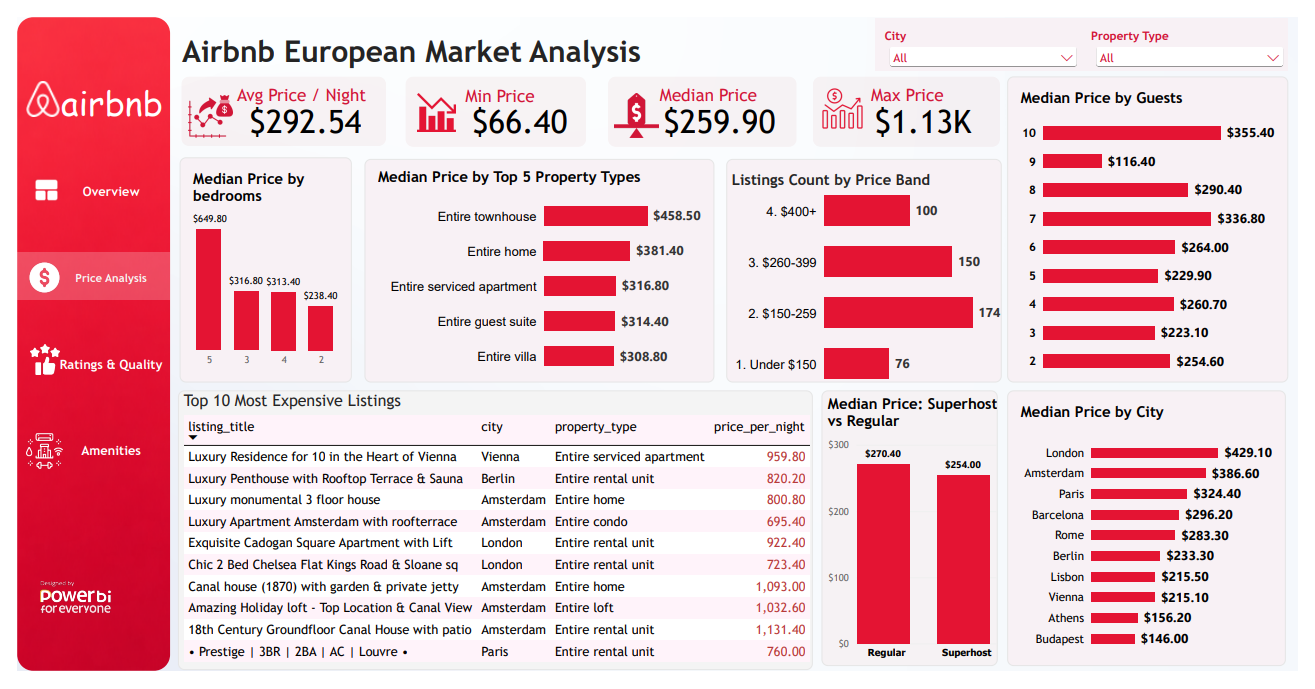

The dashboard page shown, as its layout file describes it:
{"tool":"powerbi","page":{"name":"Price Analysis","canvas":[1600,816],"ordinal":1},"visuals":[{"type":"image","box":[0,0,191.1,816],"z":0},{"type":"textbox","title":"Airbnb European Market Analysis","box":[206.5,20.6,633.1,44.7],"z":1000},{"type":"image","box":[10,78.6,43.5,46.9],"z":2000},{"type":"image","box":[29.1,681.7,87.4,82.1],"z":3000},{"type":"textbox","title":"airbnb","box":[55.1,75.6,130.7,66.1],"z":4000},{"type":"shape","box":[485.2,74,225.4,87.7],"z":5000},{"type":"cardVisual","fields":{"Data":["_Measures.Min Price"]},"box":[552.3,92.9,179,75.3],"z":6000},{"type":"textbox","title":"Min Price","box":[559.9,86.2,117.1,26.8],"z":7000},{"type":"columnChart","title":"Median Price: Superhost vs Regular","fields":{"Category":["GOLD fact_listings.Host Type"],"Y":["_Measures.Median Price"]},"box":[1004.7,466.2,220.2,344.1],"z":8000},{"type":"shape","box":[994.4,74,234,87.7],"z":9000},{"type":"shape","box":[18.9,197.9,33.9,33.5],"z":9000,"group":"g1"},{"type":"image","box":[22.8,200.5,26.8,28.4],"z":9500,"group":"g1"},{"type":"cardVisual","fields":{"Data":["_Measures.Max Price"]},"box":[1054.6,91.2,183.1,77.1],"z":10000},{"type":"textbox","title":"Max Price","box":[1066.7,84.3,132.5,29.2],"z":11000},{"type":"image","box":[1001.3,89.5,58.5,49.9],"z":12000},{"type":"clusteredBarChart","title":"Median Price by City","fields":{"Category":["GOLD fact_listings.city"],"Y":["_Measures.Median Price"]},"box":[1237,466.2,347.5,344.1],"z":13000},{"type":"clusteredBarChart","fields":{"Category":["GOLD fact_listings.Price Band"],"Y":["_Measures.Listings Count"]},"box":[886,177.2,344.1,278.7],"z":14000},{"type":"shape","box":[204.7,73.7,256.3,87.7],"z":15000},{"type":"cardVisual","fields":{"Data":["_Measures.Avg Price"]},"box":[273.5,99.8,203,58.5],"z":16000},{"type":"textbox","title":"Avg Price / Night","box":[275.3,84,203,29.2],"z":17000},{"type":"image","box":[208.2,96.3,67.1,55.1],"z":18000},{"type":"shape","box":[738.1,74,235.7,87.7],"z":19000},{"type":"cardVisual","fields":{"Data":["_Measures.Median Price"]},"box":[791.4,103.2,212.5,55.2],"z":20000},{"type":"textbox","title":"Median Price","box":[803.4,84.3,204.7,27.5],"z":21000},{"type":"image","box":[731.2,94.6,84.3,55.1],"z":22000},{"type":"clusteredBarChart","title":"Median Price by Top 5 Property Types","fields":{"Category":["GOLD fact_listings.property_type"],"Y":["_Measures.Median Price"]},"box":[433.5,177.2,437,278.7],"z":23000},{"type":"tableEx","title":"Top 10 Most Expensive Listings","fields":{"Values":["GOLD fact_listings.listing_title","GOLD fact_listings.city","GOLD fact_listings.property_type","GOLD fact_listings.price_per_night"]},"box":[201.3,466.2,793.1,349.2],"z":24000},{"type":"columnChart","title":"Median Price by bedrooms","fields":{"Category":["GOLD fact_listings.bedrooms"],"Y":["_Measures.Median Price"]},"box":[203,175.5,215.1,280.4],"z":25000},{"type":"image","box":[495.5,94.6,56.8,48.2],"z":26000},{"type":"slicer","title":"Property Type","fields":{"Values":["GOLD fact_listings.property_type"]},"box":[1329.9,1.7,258.1,65.4],"z":27000},{"type":"slicer","title":"City","fields":{"Values":["GOLD fact_listings.property_type"]},"box":[1071.8,1.7,258.1,65.4],"z":28000},{"type":"barChart","title":"Median Price by Guests","fields":{"Category":["GOLD fact_listings.guests"],"Y":["_Measures.Median Price"]},"box":[1237,74,351,381.9],"z":29000},{"type":"group","id":"g1","title":"Group 1","box":[18.9,197.9,35.7,34.4],"z":29001},{"type":"image","box":[14.9,408.9,38.7,37.2],"z":29002},{"type":"pageNavigator","box":[26.8,168,181.4,425.3],"z":29003},{"type":"shape","box":[0,294.4,190.5,59],"z":29004},{"type":"image","box":[11.4,512.4,45.7,59],"z":29005},{"type":"image","box":[13.4,304.8,41.6,40.1],"z":29006}]}

Visuals, with their boxes in screenshot pixels (x1, y1, x2, y2), scaled from the page's 1600x816 canvas onto the 1315x689 screenshot:
image: bbox=(0, 0, 157, 688)
"Airbnb European Market Analysis" textbox: bbox=(170, 17, 690, 55)
image: bbox=(8, 66, 44, 106)
image: bbox=(24, 576, 96, 645)
"airbnb" textbox: bbox=(45, 64, 153, 120)
shape: bbox=(399, 62, 584, 137)
cardVisual - _Measures.Min Price: bbox=(454, 78, 601, 142)
"Min Price" textbox: bbox=(460, 73, 556, 95)
"Median Price: Superhost vs Regular" columnChart: bbox=(826, 394, 1007, 684)
shape: bbox=(817, 62, 1010, 137)
shape: bbox=(16, 167, 43, 195)
image: bbox=(19, 169, 41, 193)
cardVisual - _Measures.Max Price: bbox=(867, 77, 1017, 142)
"Max Price" textbox: bbox=(877, 71, 986, 96)
image: bbox=(823, 76, 871, 118)
"Median Price by City" clusteredBarChart: bbox=(1017, 394, 1302, 684)
clusteredBarChart - GOLD fact_listings.Price Band x _Measures.Listings Count: bbox=(728, 150, 1011, 385)
shape: bbox=(168, 62, 379, 136)
cardVisual - _Measures.Avg Price: bbox=(225, 84, 392, 134)
"Avg Price / Night" textbox: bbox=(226, 71, 393, 96)
image: bbox=(171, 81, 226, 128)
shape: bbox=(607, 62, 800, 137)
cardVisual - _Measures.Median Price: bbox=(650, 87, 825, 134)
"Median Price" textbox: bbox=(660, 71, 829, 94)
image: bbox=(601, 80, 670, 126)
"Median Price by Top 5 Property Types" clusteredBarChart: bbox=(356, 150, 715, 385)
"Top 10 Most Expensive Listings" tableEx: bbox=(165, 394, 817, 688)
"Median Price by bedrooms" columnChart: bbox=(167, 148, 344, 385)
image: bbox=(407, 80, 454, 121)
"Property Type" slicer: bbox=(1093, 1, 1305, 57)
"City" slicer: bbox=(881, 1, 1093, 57)
"Median Price by Guests" barChart: bbox=(1017, 62, 1305, 385)
"Group 1" group: bbox=(16, 167, 45, 196)
image: bbox=(12, 345, 44, 377)
pageNavigator: bbox=(22, 142, 171, 501)
shape: bbox=(0, 249, 157, 298)
image: bbox=(9, 433, 47, 482)
image: bbox=(11, 257, 45, 291)
